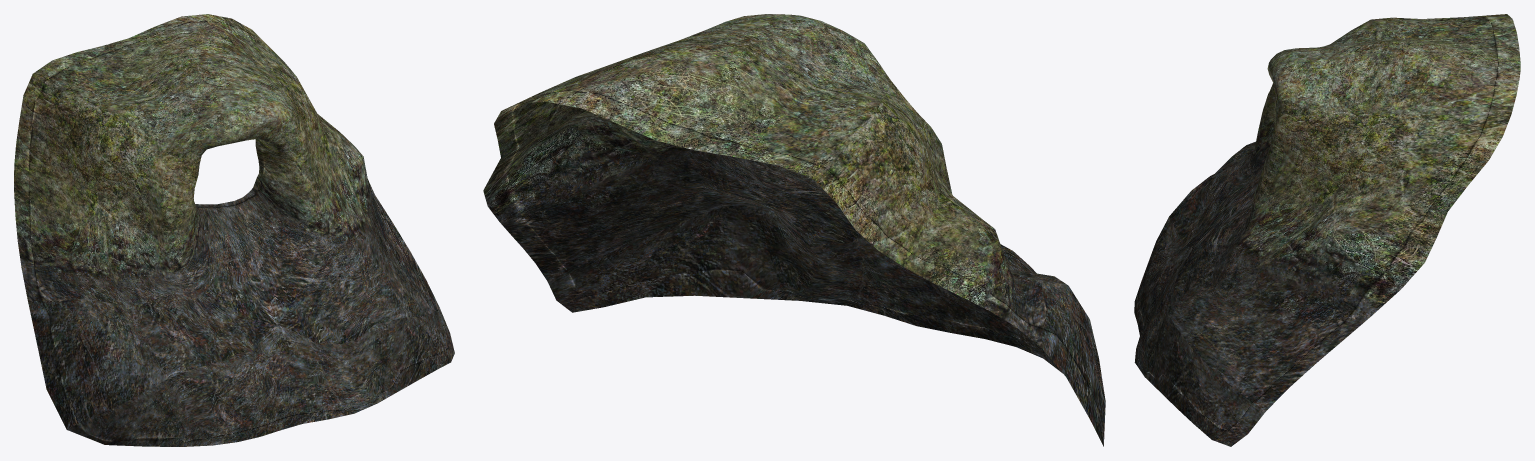
The model's file is thm_all_cave_s03_damprock_mirror_r0_mesh_l0.fbx.
The picture shows the model from 3 angles, left to right: view 1: azimuth 30°, elevation 25°; view 2: azimuth 150°, elevation 25°; view 3: azimuth 270°, elevation 25°; orthographic projection. The views are drawn at different scales.
Parts seen in each view (by area): view 1: mesh_node; view 2: mesh_node; view 3: mesh_node.
Part boxes in pixels (x1,y1,x2,y2): mesh_node: [14, 14, 454, 446]; mesh_node: [483, 14, 1105, 446]; mesh_node: [1134, 14, 1520, 446].
Bounding box in the file's own units: 48.97 × 34.28 × 39.36.
